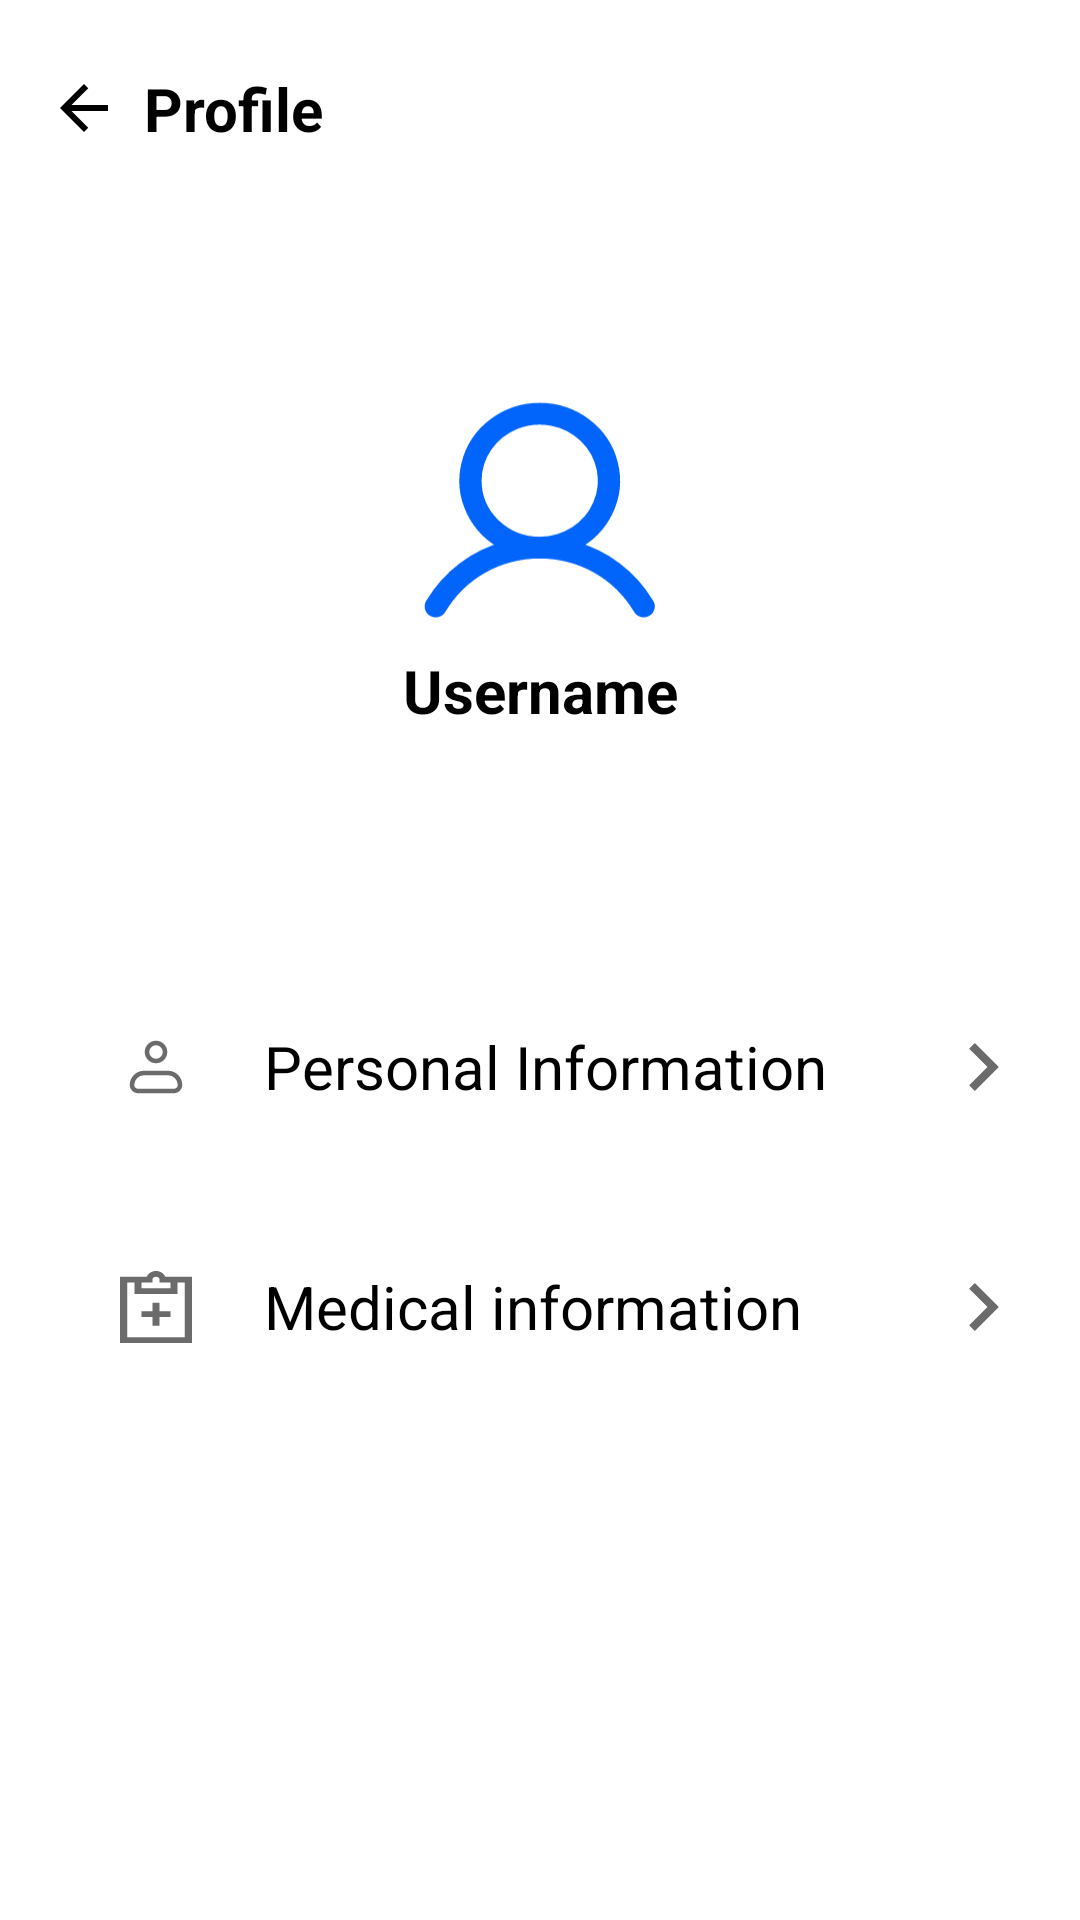

Named icons in this screenshot (1080*1920) and their centers, [x,y]:
left arrow: [84,108]
profile: [539,510]
right arrow: [984,1067], [984,1307]
